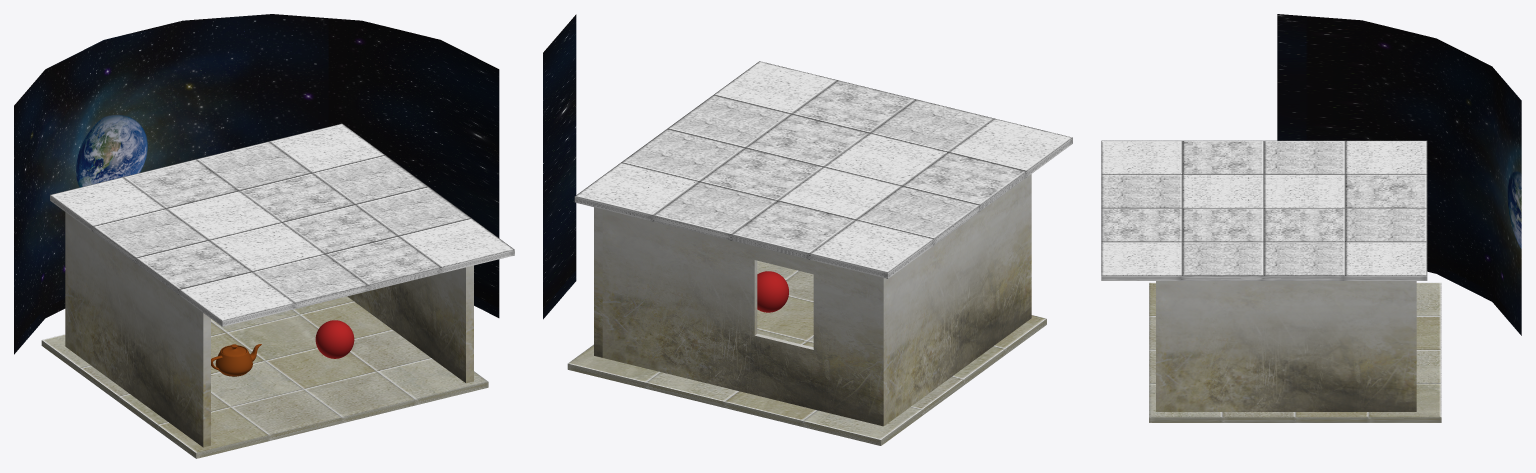
Rendered from room_simple.obj.
3 views of the same model, side by side, from view 1: azimuth 30°, elevation 25°; view 2: azimuth 150°, elevation 25°; view 3: azimuth 270°, elevation 25° (orthographic). The views are drawn at different scales.
Visible parts, largest first — view 1: space, ceiling, wall, floor, ball, teapot; view 2: wall, ceiling, floor, space, ball; view 3: ceiling, space, wall, floor.
Part boxes in pixels (x1,y1,x2,y2): space: (14,14,499,354); ceiling: (50,123,514,326); wall: (65,212,473,447); floor: (41,296,488,458); ball: (315,320,354,358); teapot: (211,344,261,376); wall: (594,174,1031,426); ceiling: (574,61,1072,278); floor: (567,260,1046,445); space: (543,14,576,319); ball: (757,271,788,312); ceiling: (1101,140,1427,280); space: (1277,14,1521,335); wall: (1156,281,1416,411); floor: (1149,282,1441,422).
Bounding box in the file's own units: 826 × 433 × 700.
6 materials, 4 textured.
